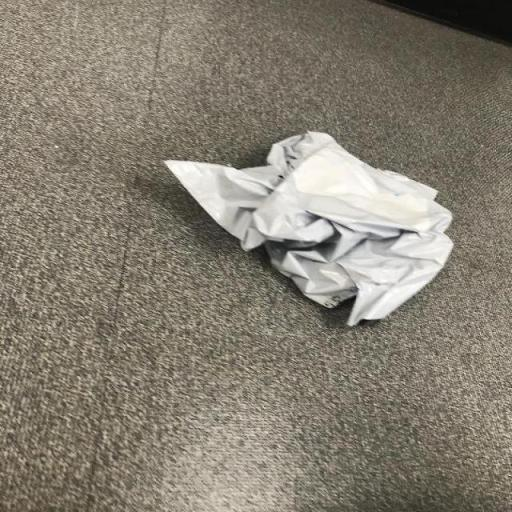plastic-bag: (157, 128, 461, 328)
